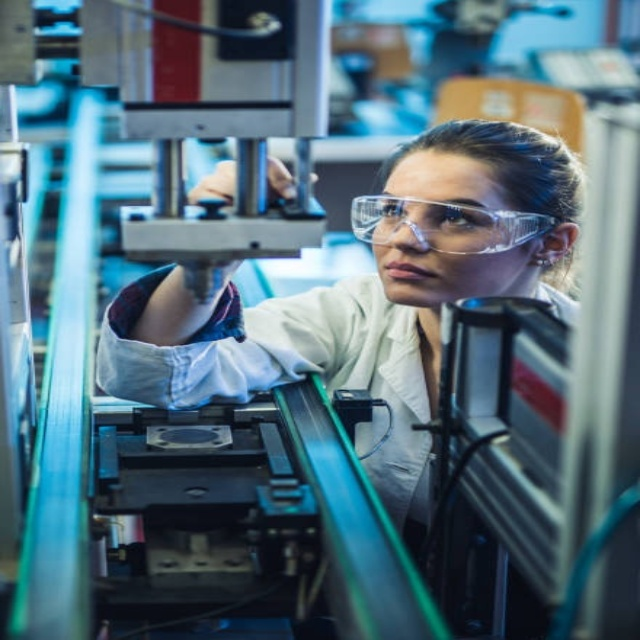Gafas: (349, 195, 558, 255)
Sin_guantes: (189, 154, 323, 209)
Sin_mascara: (372, 254, 452, 297)
